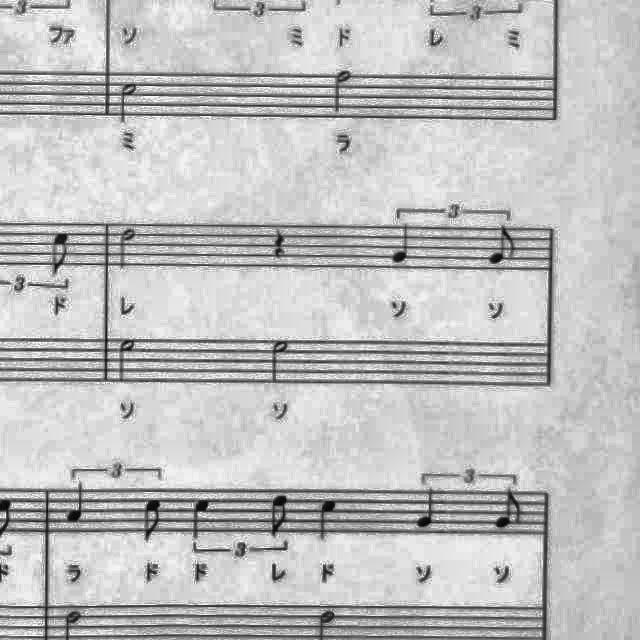Eighth-note: (489, 484, 527, 534), (483, 222, 521, 270), (264, 490, 296, 542), (139, 494, 169, 548), (47, 226, 77, 278)
Half-note: (329, 65, 359, 119), (266, 334, 296, 386), (115, 334, 142, 386), (112, 223, 140, 273), (114, 77, 142, 126)
Quarter-note: (184, 493, 216, 547), (312, 494, 344, 546), (386, 220, 418, 268), (412, 483, 442, 532), (61, 479, 90, 527)
Quarter-rest: (266, 221, 294, 263)
